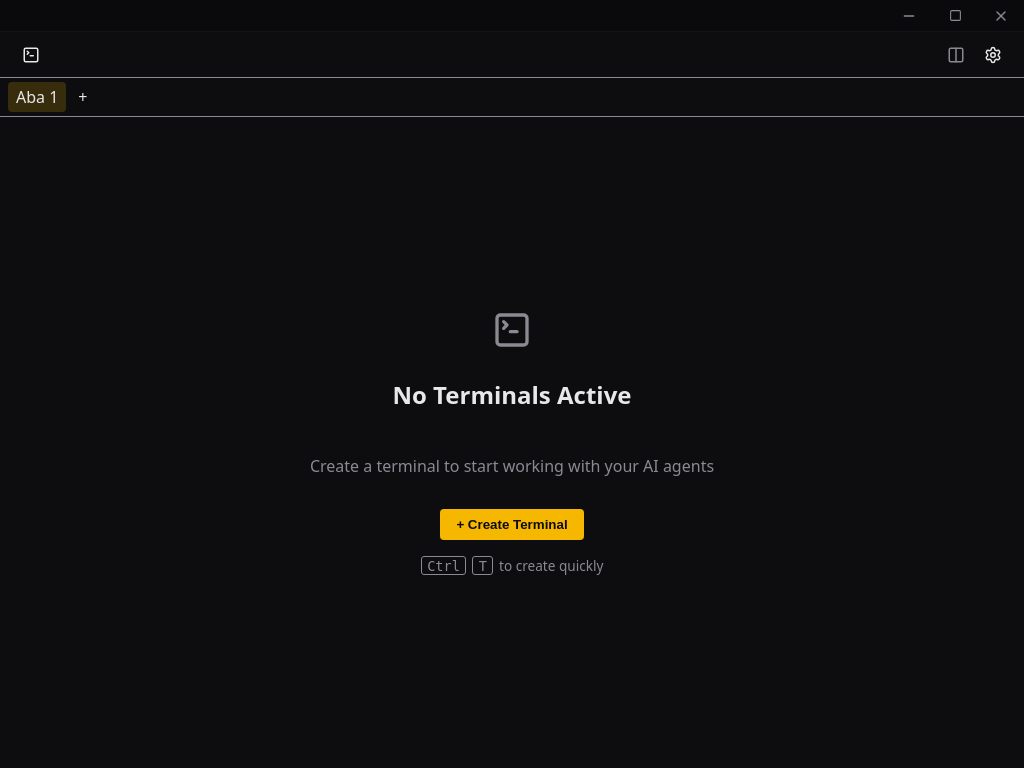
Test: App - shell-chrome wiring › the Settings overlay closes on "Fechar", on Esc and on a backdrop click (SET-04, SET-05)
The image size is (1024, 768).
Click the button named "settings". click: (993, 55)
box: [979,40,1008,69]
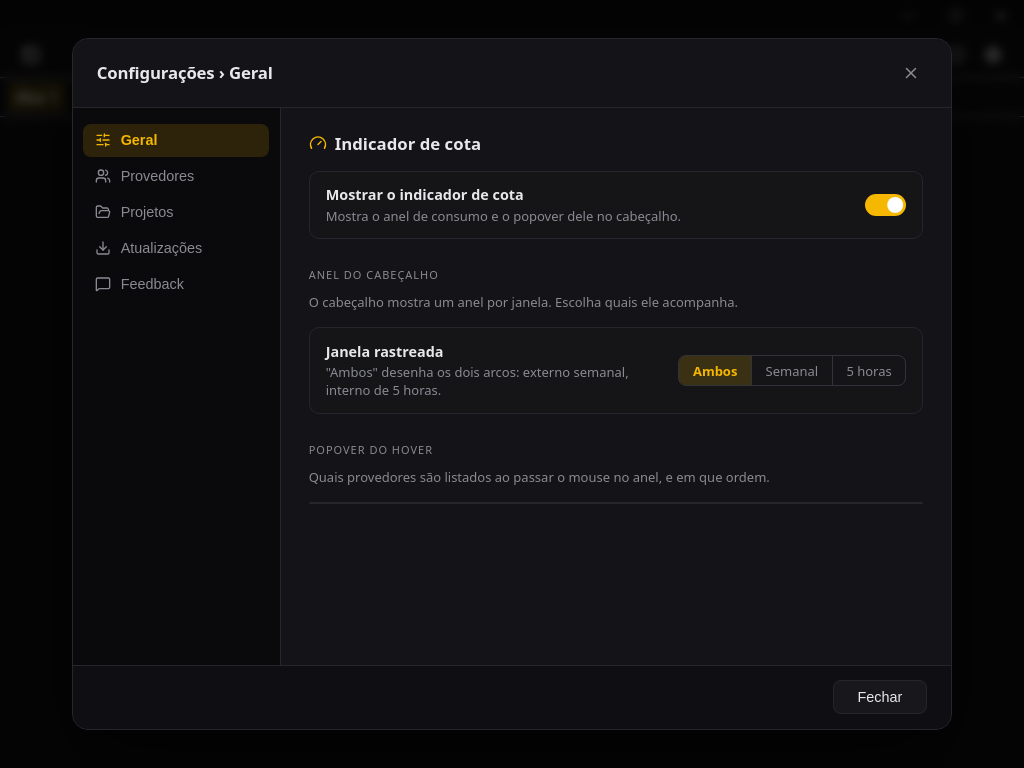
Click the button "Fechar". click: (880, 697)
box: [832,680,927,714]
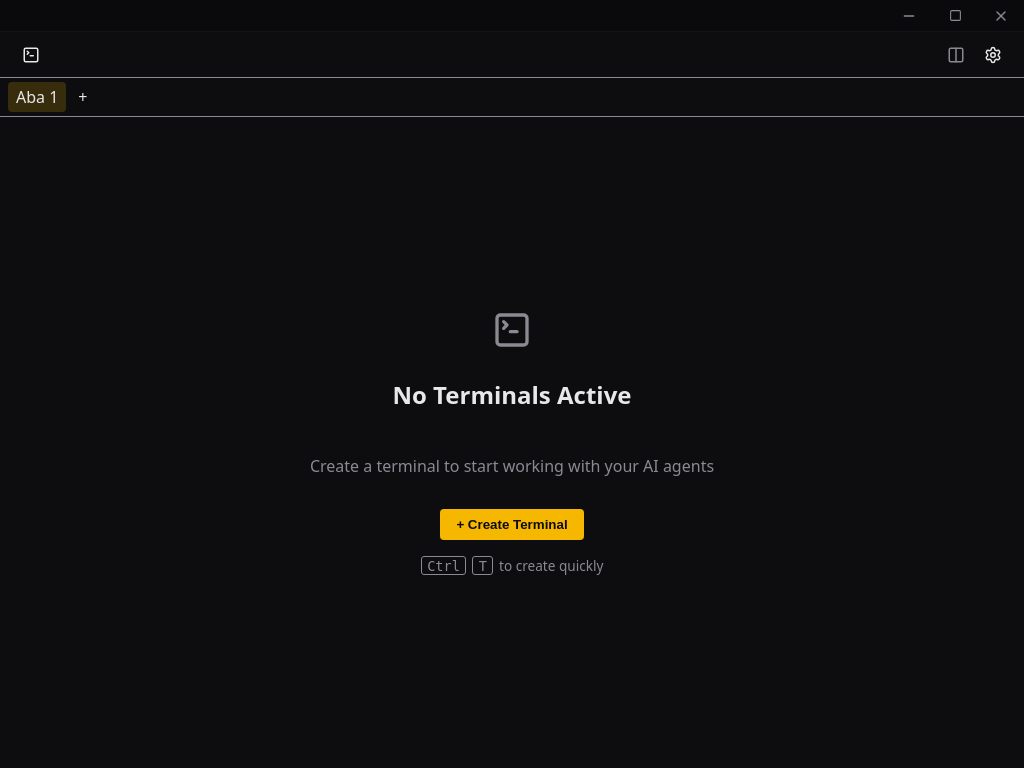
Now the text "Configurações" is gone
Click the button named "settings". click: (993, 55)
box: [979,40,1008,69]
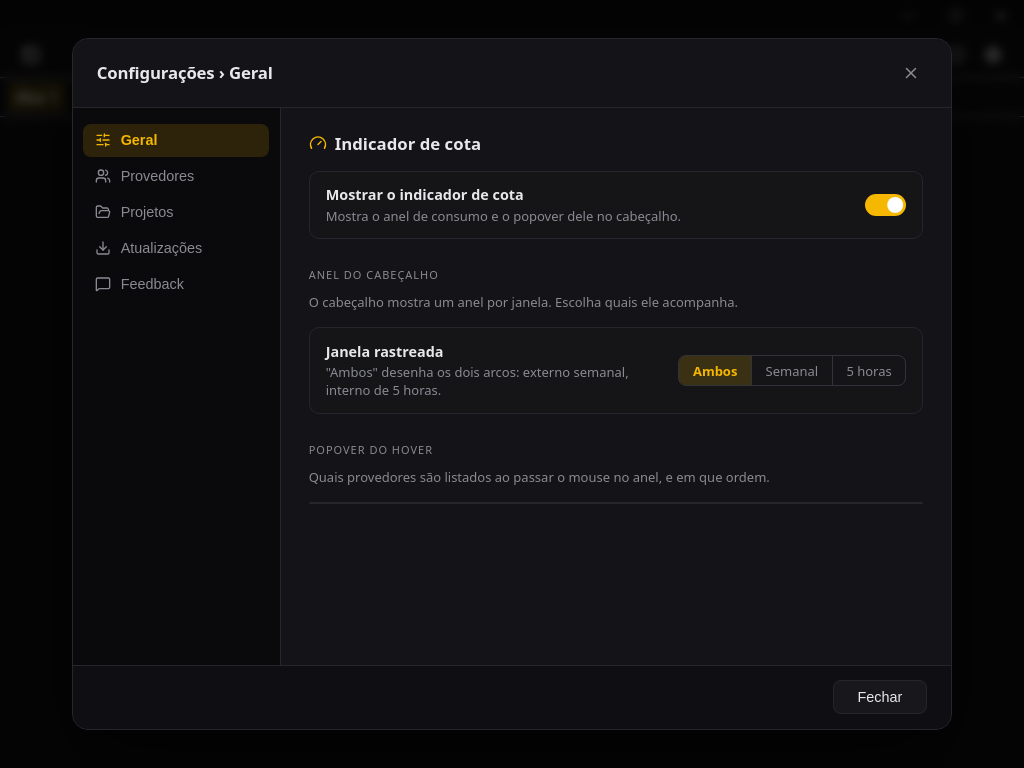
Press Escape
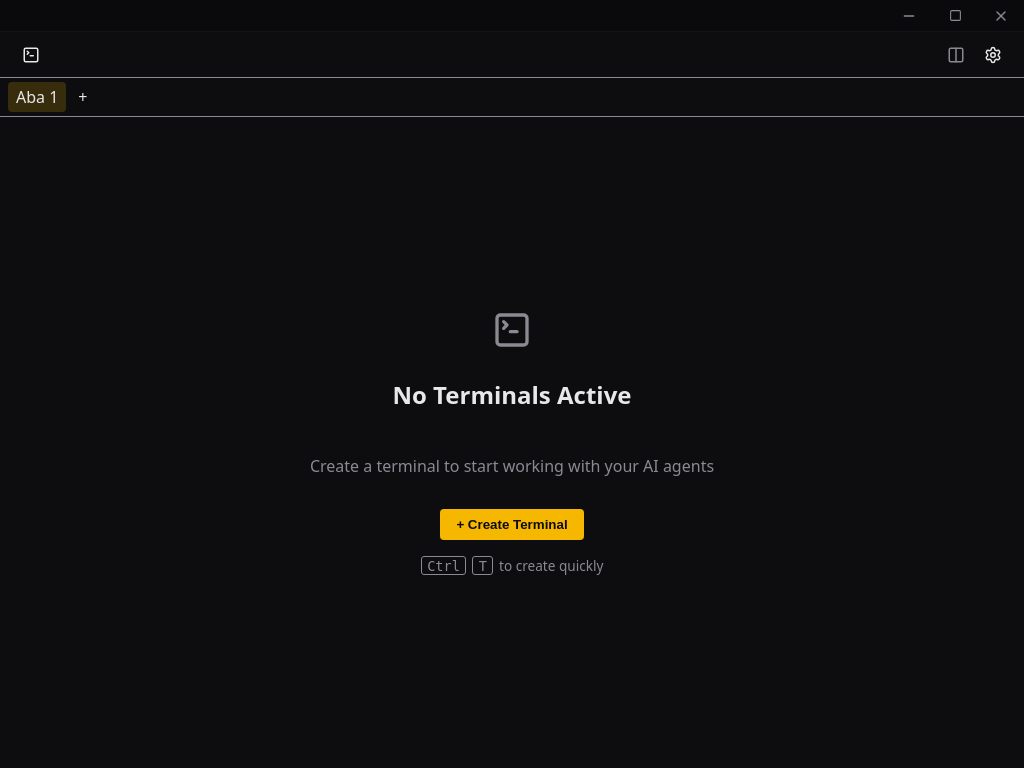
Now the text "Configurações" is gone
Click the button named "settings". click: (993, 55)
box: [979,40,1008,69]
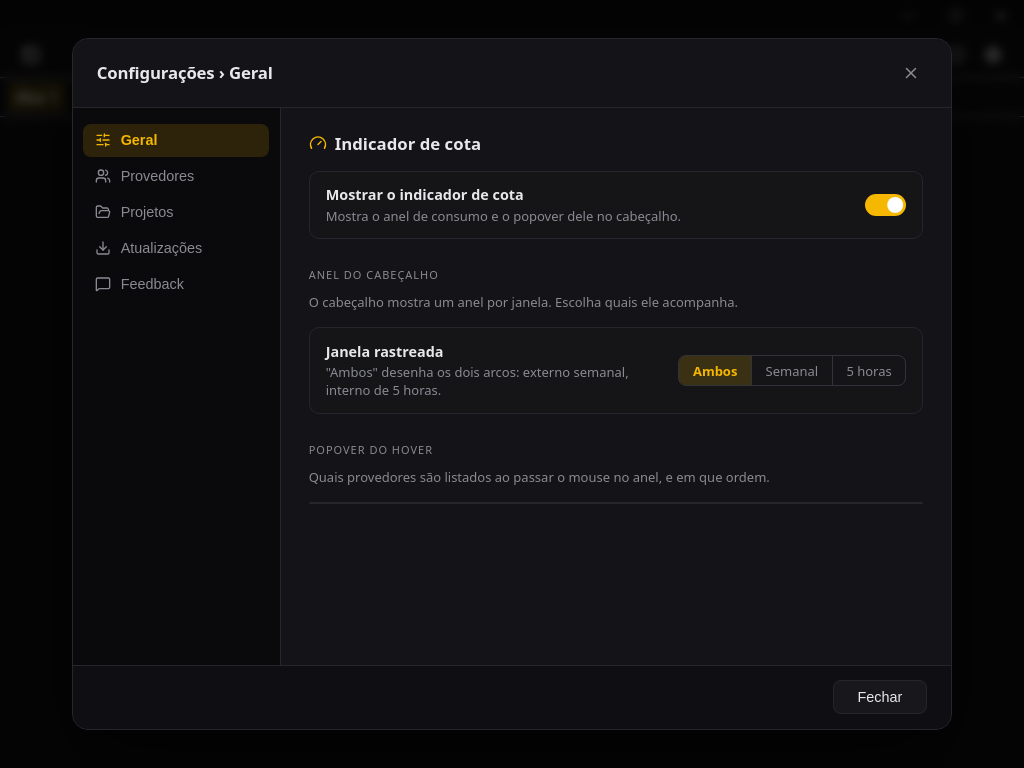
Press the mouse on the element with class "app-settings-backdrop" at (512, 384), box [0,0,1023,767]
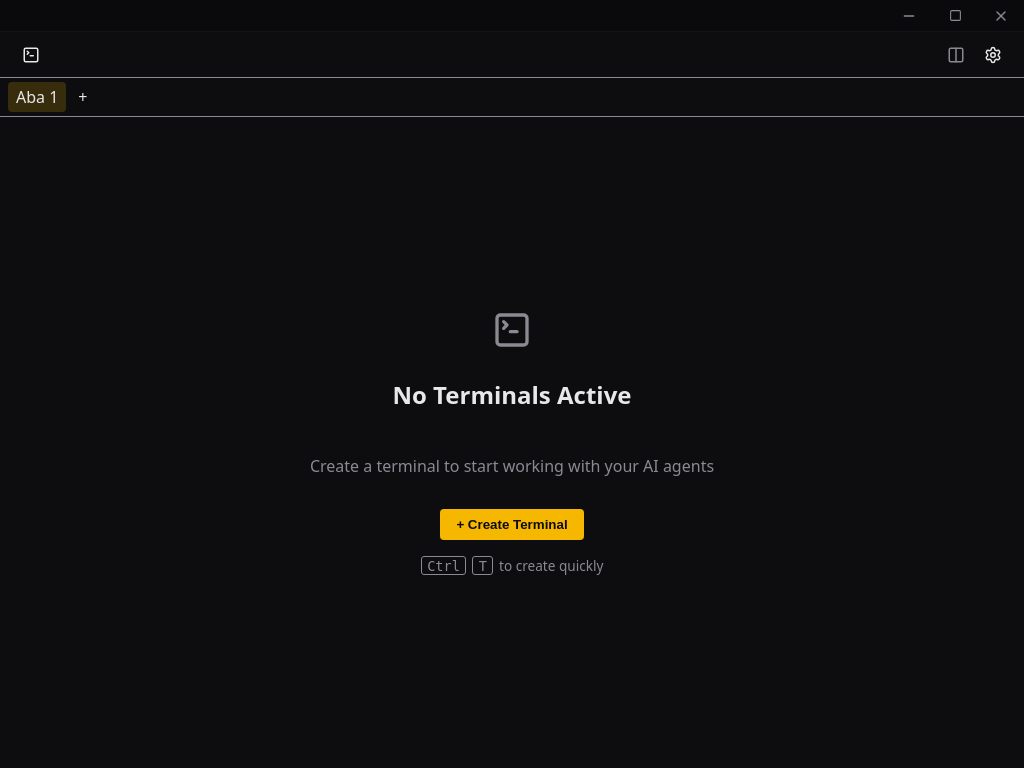
Now the text "Configurações" is gone
